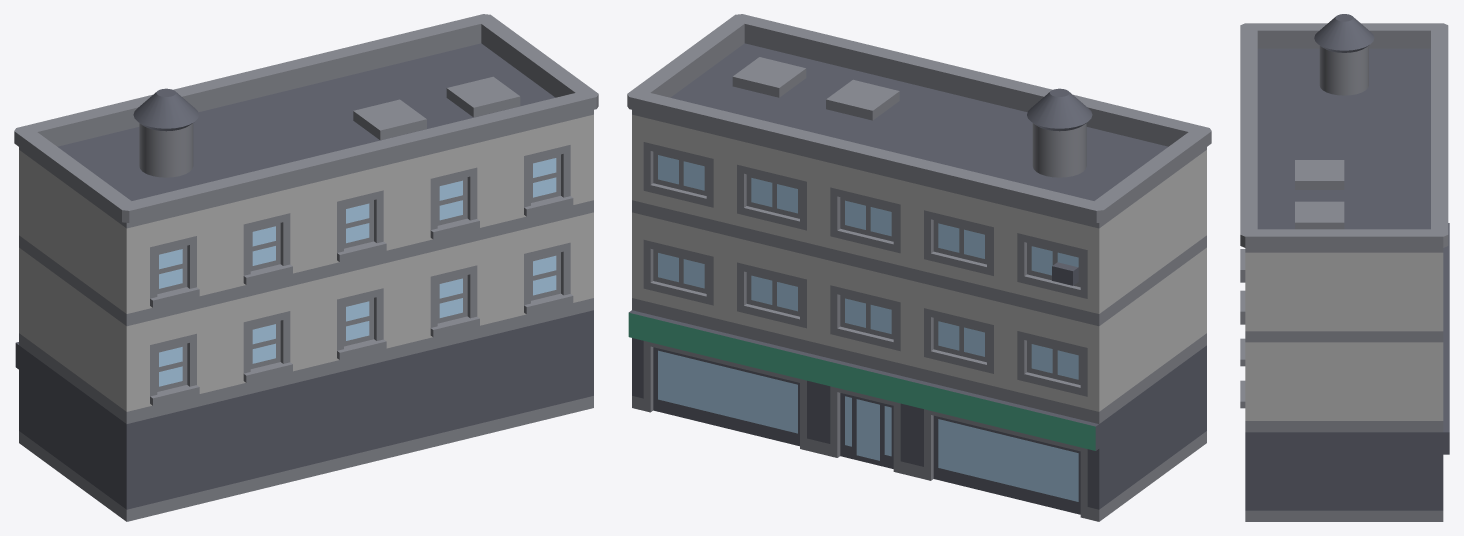
The model's file is large_buildingF.fbx.
The picture shows the model from 3 angles, left to right: view 1: azimuth 30°, elevation 25°; view 2: azimuth 150°, elevation 25°; view 3: azimuth 270°, elevation 25°; orthographic projection. The views are drawn at different scales.
Parts seen in each view (by area): view 1: large_buildingF; view 2: large_buildingF; view 3: large_buildingF.
Part boxes in pixels (x1,y1,x2,y2): large_buildingF: [14, 14, 598, 521]; large_buildingF: [627, 14, 1211, 521]; large_buildingF: [1240, 14, 1449, 521].
Size of the model in its own units: 20.4 by 15 by 8.45.
